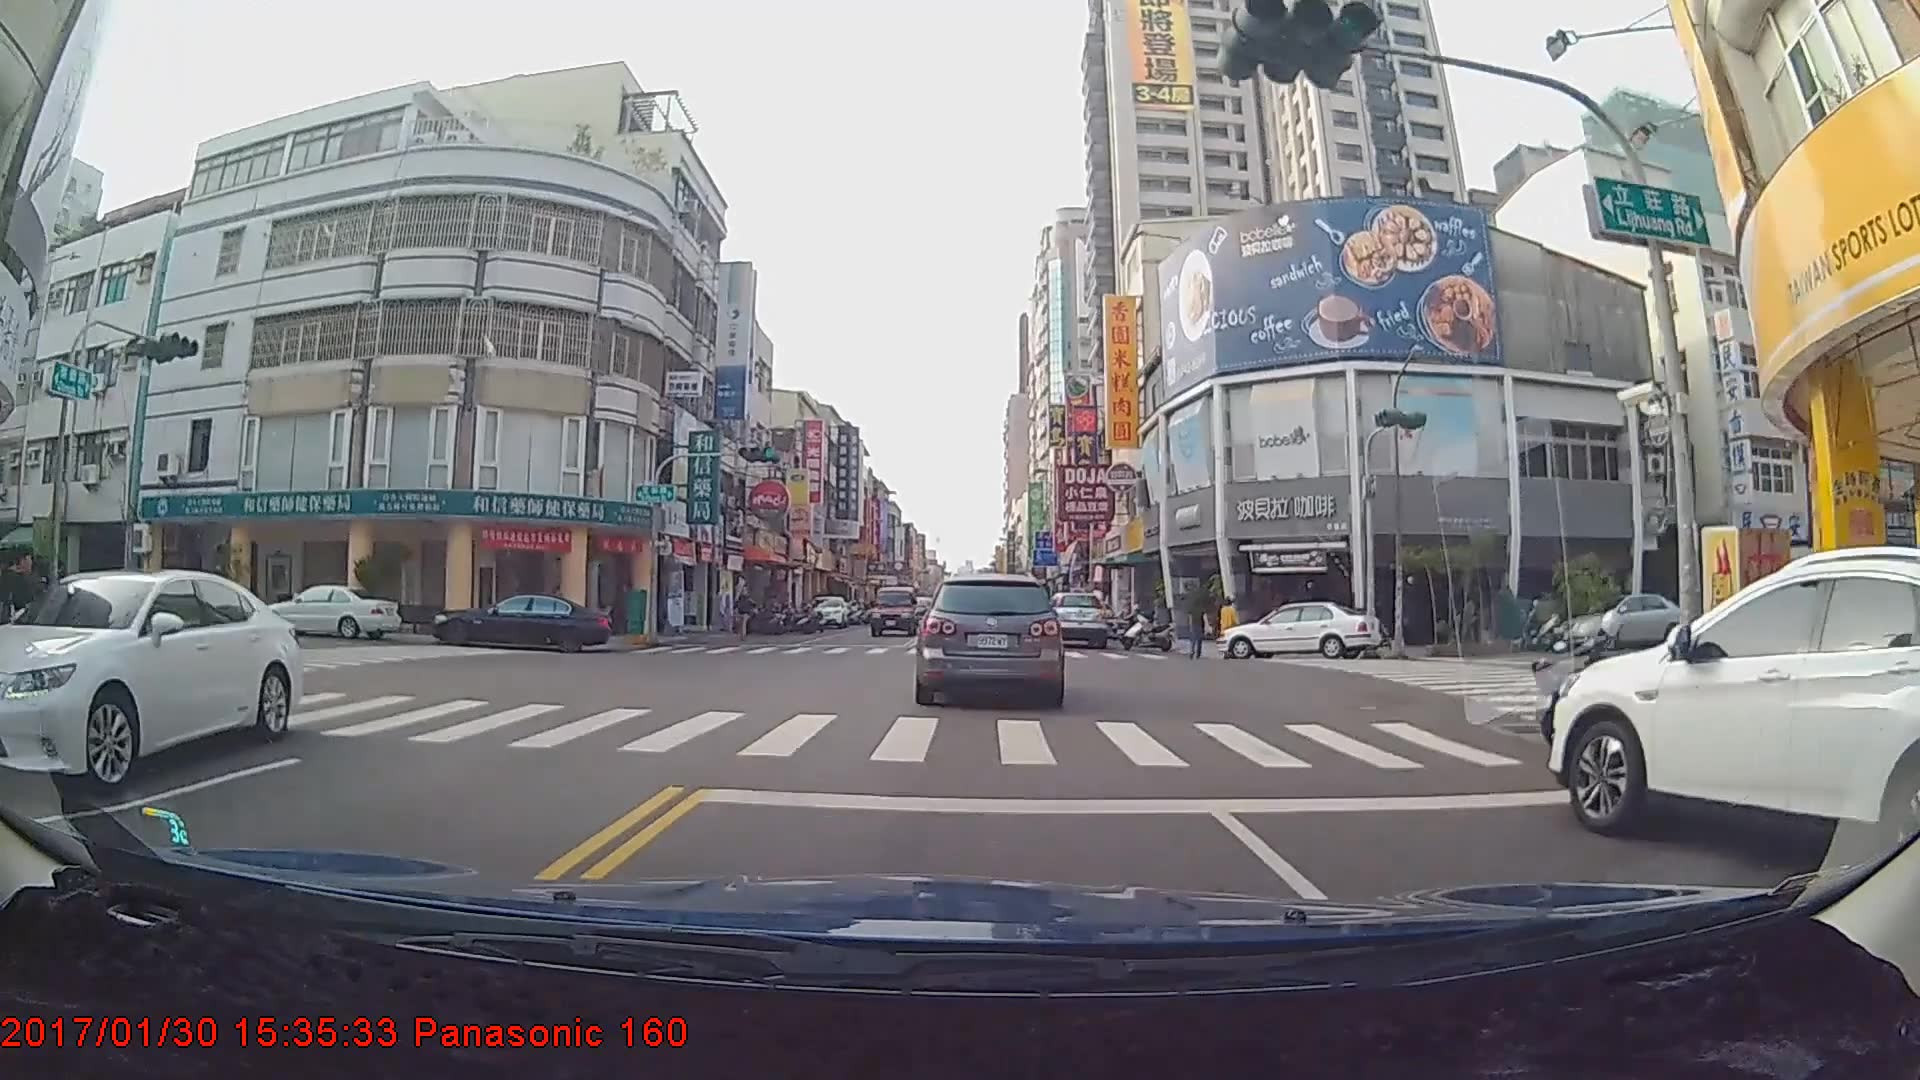pedestrian: (1, 543, 48, 683), (1186, 594, 1212, 658), (735, 588, 757, 640), (1220, 595, 1240, 651)
vehicle: (1546, 545, 1920, 909), (2, 565, 295, 797), (917, 570, 1063, 703), (427, 579, 610, 639), (1218, 596, 1379, 659), (253, 580, 399, 638), (1555, 593, 1692, 653), (1038, 586, 1108, 647), (868, 580, 917, 632), (802, 592, 847, 627)
